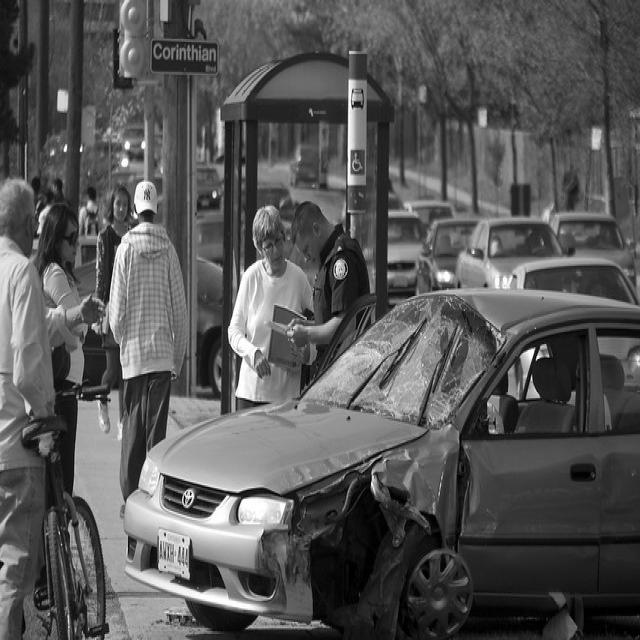crush: (253, 292, 516, 640)
